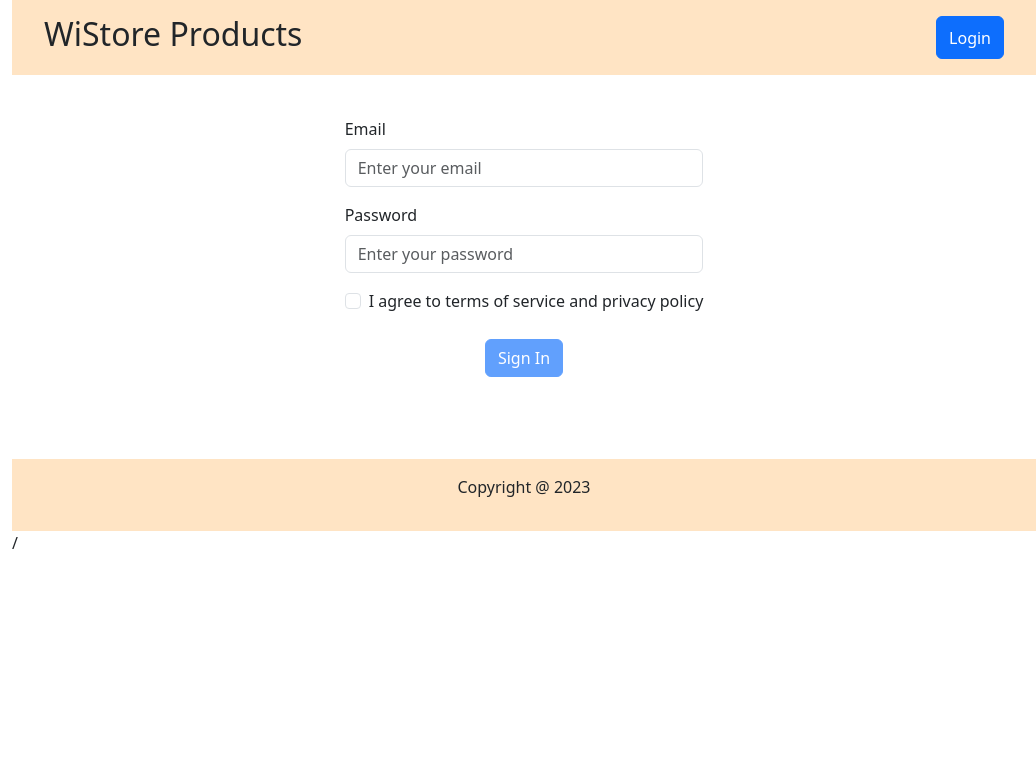
Test case: Hatalı durumlarda beklenen hata mesajları görünüyor ve buton disabled kalıyor. › Email ve Password yanlış
Type "aaaa" into the field with test id "emailInput" at x=525, y=168, box [345,149,704,187]
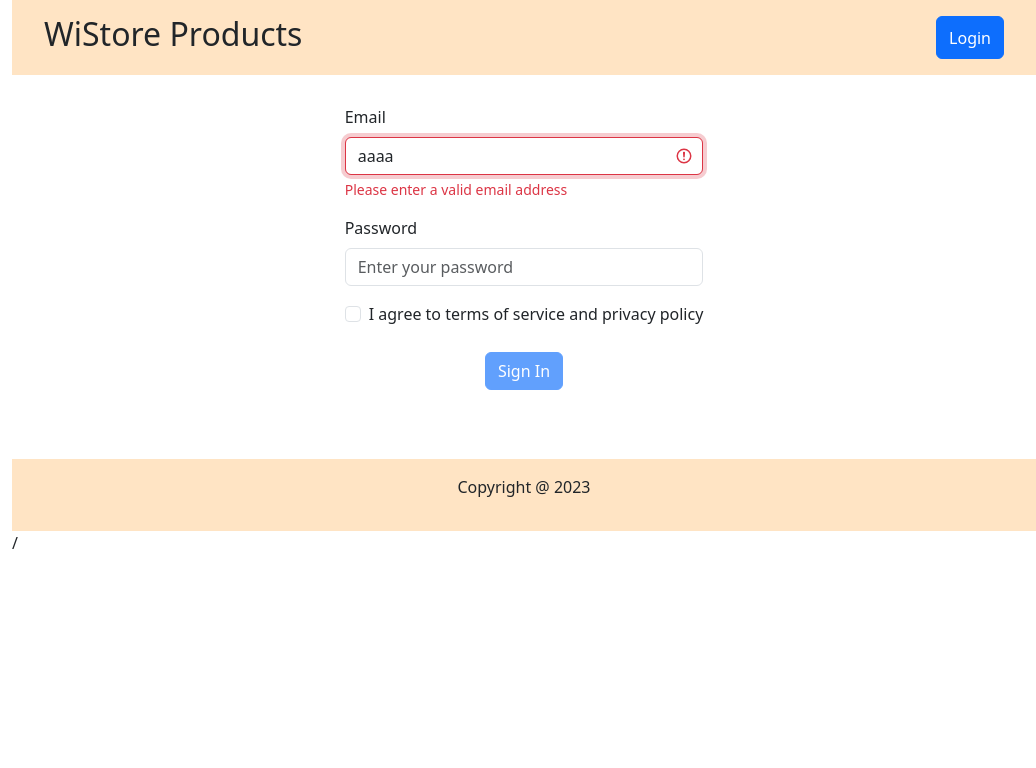
Type "aaa" into the password field with test id "passwordInput" at x=525, y=267, box [345,248,704,286]
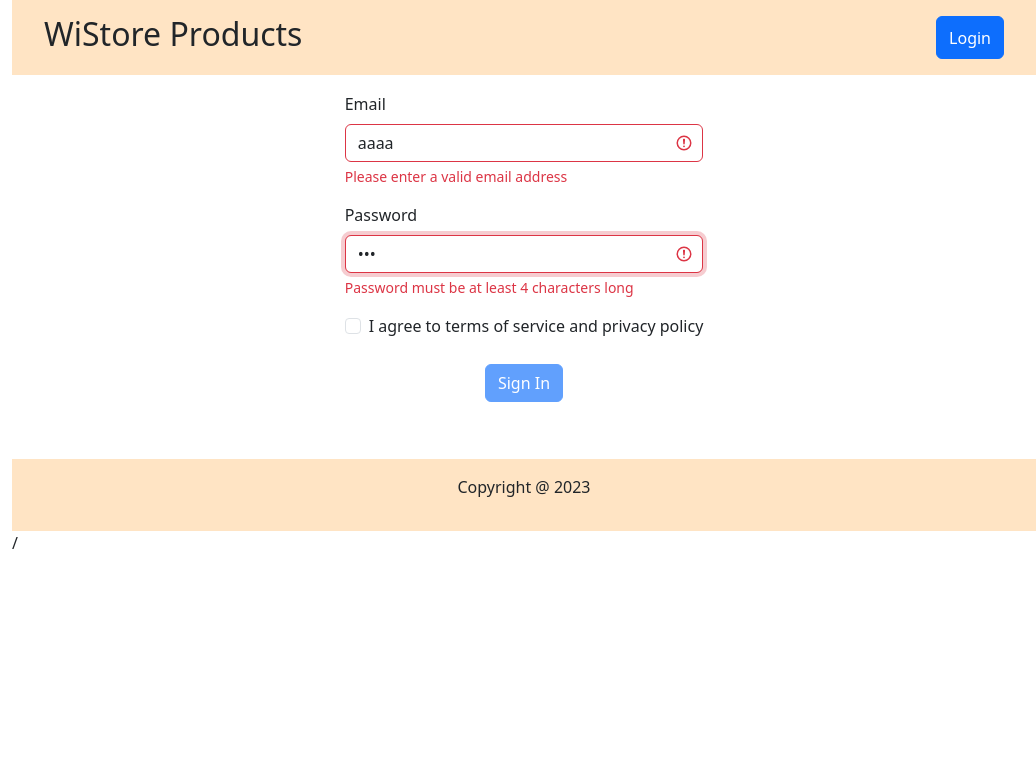
Expected: the button with test id "buttonInput" is disabled, [485,364,563,402]
Expected: the text "Please enter a valid email address" is shown, [345,167,567,186]
Expected: the text "Password must be at least 4 characters long" is shown, [345,278,634,297]
